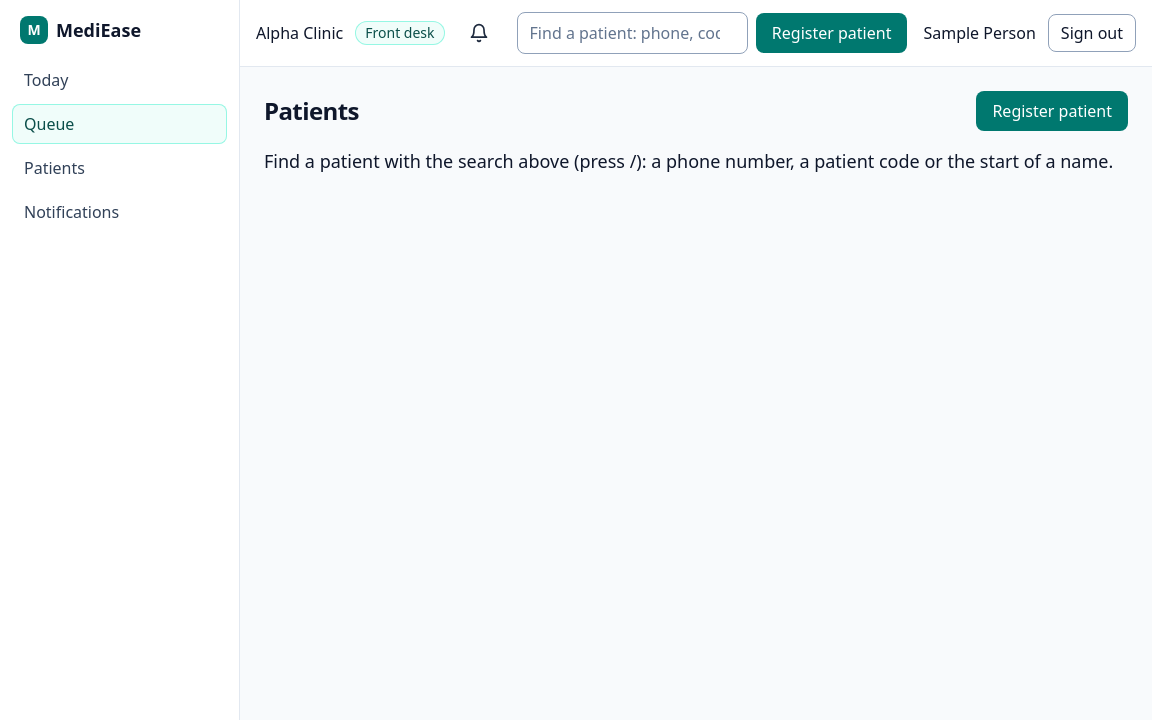
register patient drawer › FR-PAT-02, AC1: a phone already in the clinic lists its patients; Use this patient opens one
The image size is (1152, 720).
Step 1. Click the button "Register patient" next to "Sample Person" → point(832, 33), box [756,13,907,53]
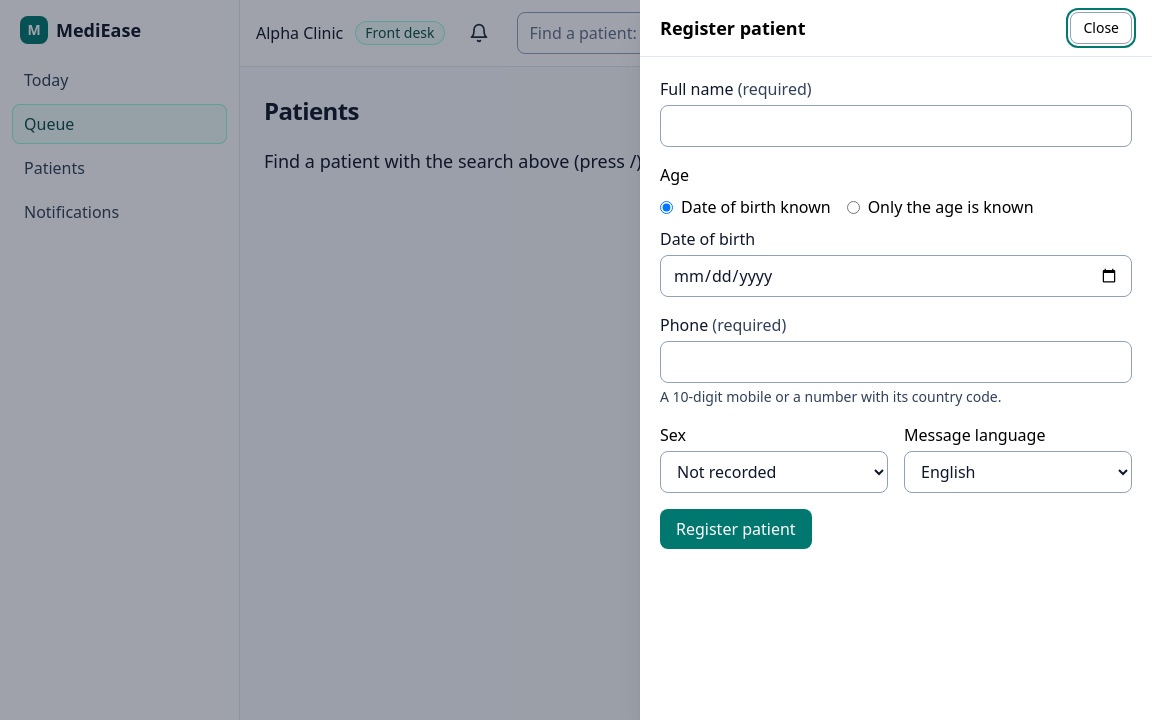
Step 2. Type "Sample Person" into the field labelled "Full name (required)" → point(896, 126), box [660,105,1132,147]
Step 3. Type "1990-05-17" into the date field labelled "Date of birth" → point(896, 276), box [660,255,1132,297]
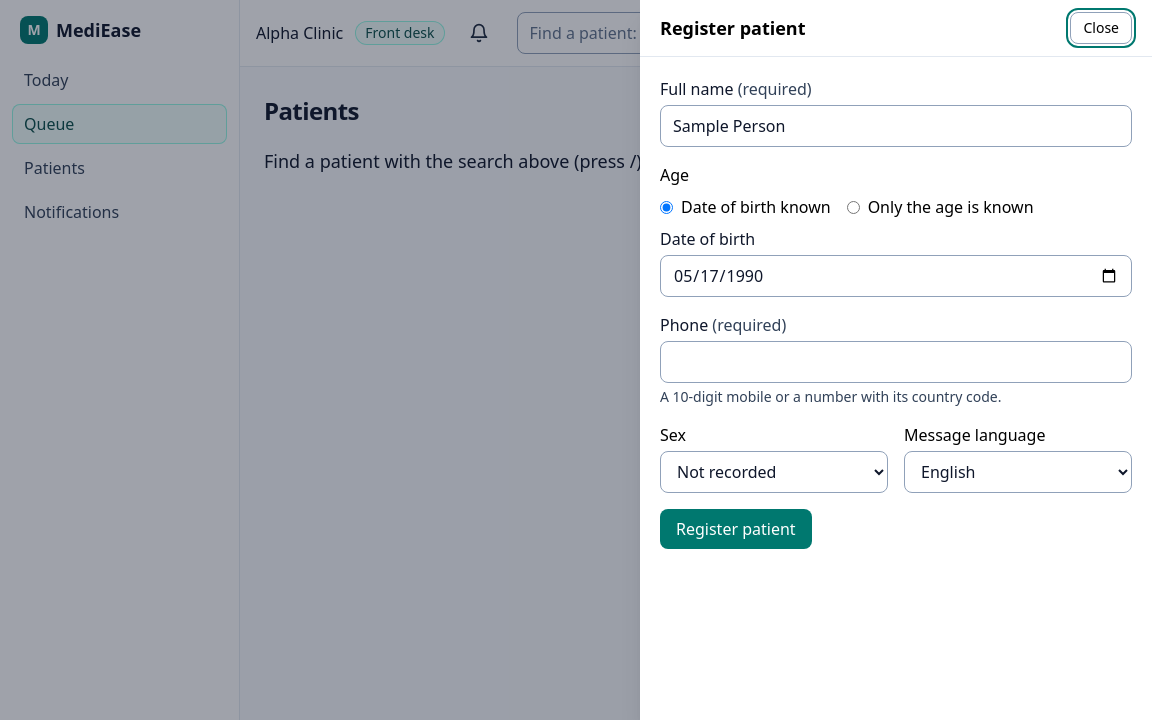
Step 4. Type "090000 00101" into the field labelled "Phone (required)" → point(896, 362), box [660,341,1132,383]
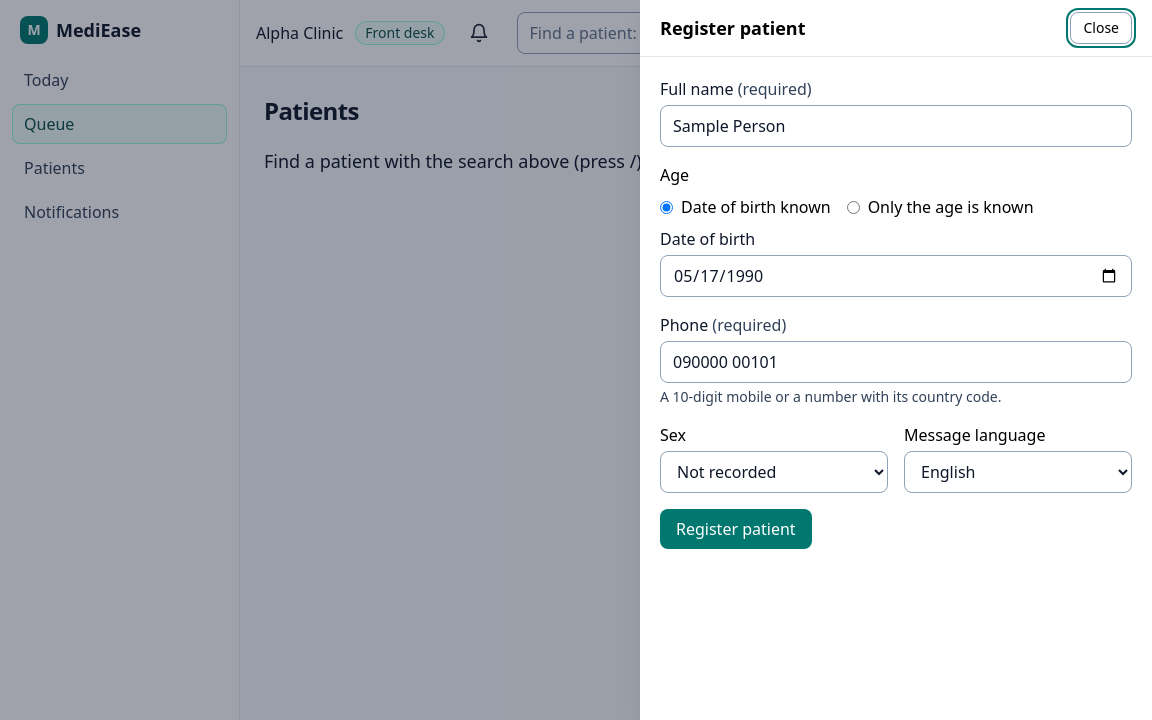
Step 5. Select "Female" in the dropdown labelled "Sex" → point(774, 472), box [660,451,888,493]
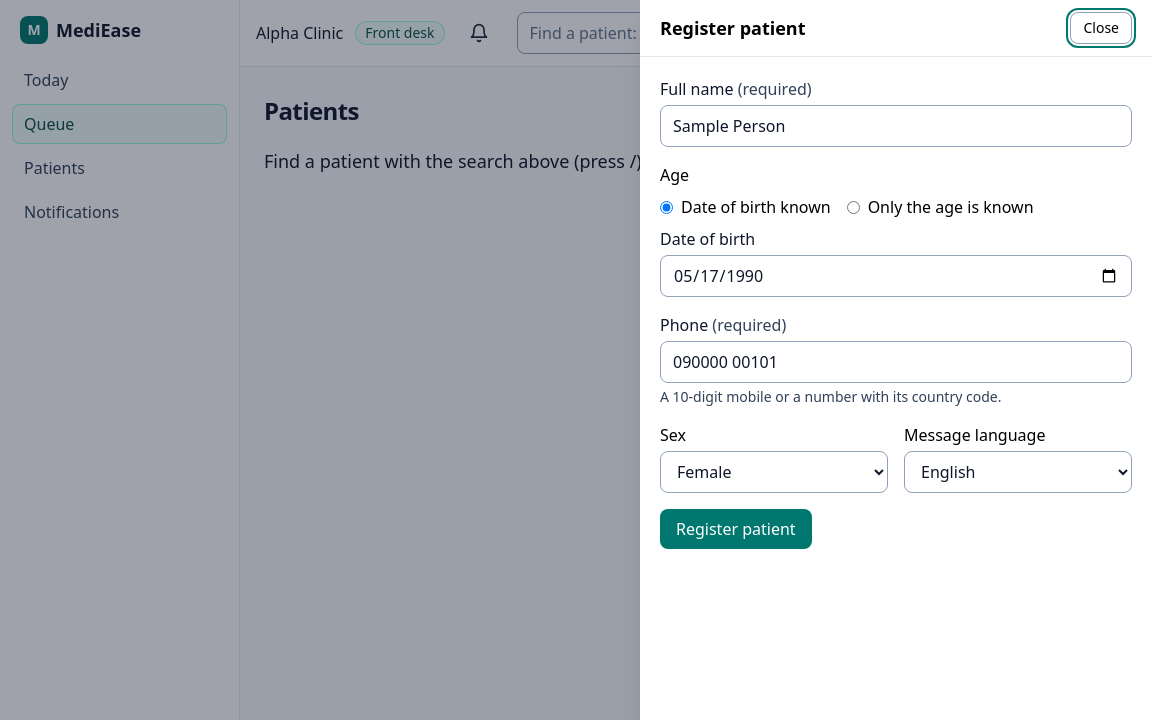
Step 6. Click the button "Register patient" → point(736, 529), box [660,509,812,549]
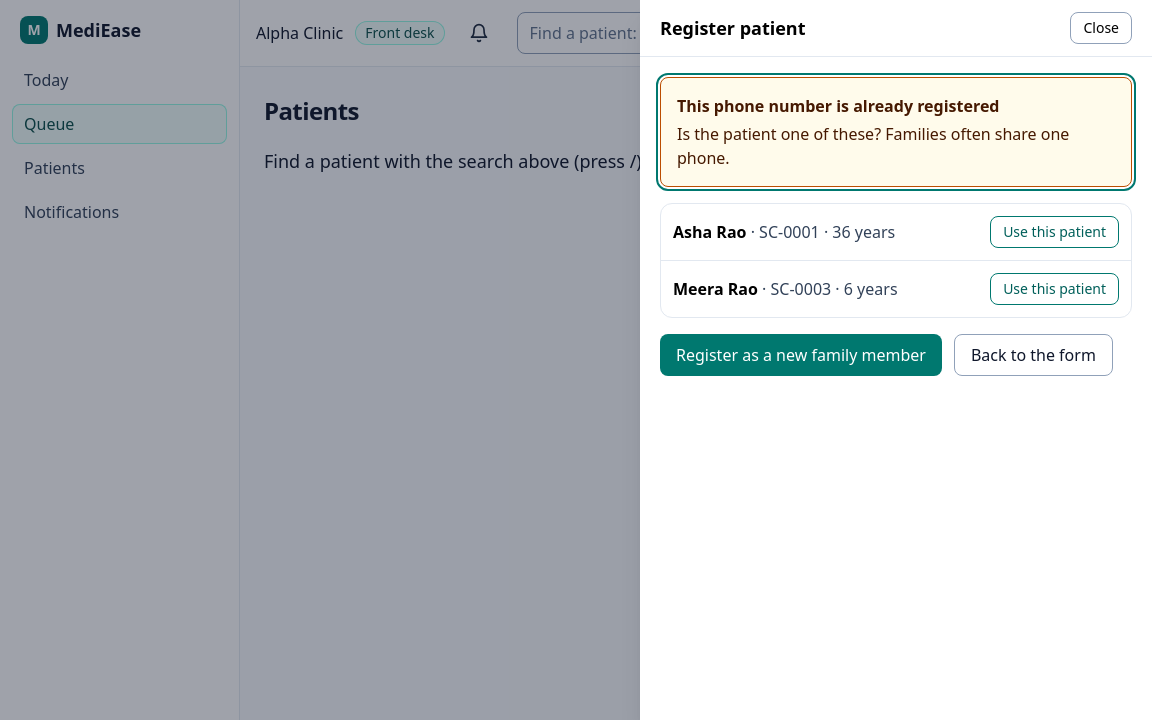
Now the heading "This phone number is already registered" is shown, box [677,95,1000,117]
Now the text "Meera Rao" is shown, box [673,278,758,300]
Step 7. Click the button with aria-label "Use this patient: Asha Rao, SC-0001" → point(1055, 232), box [990,216,1119,248]
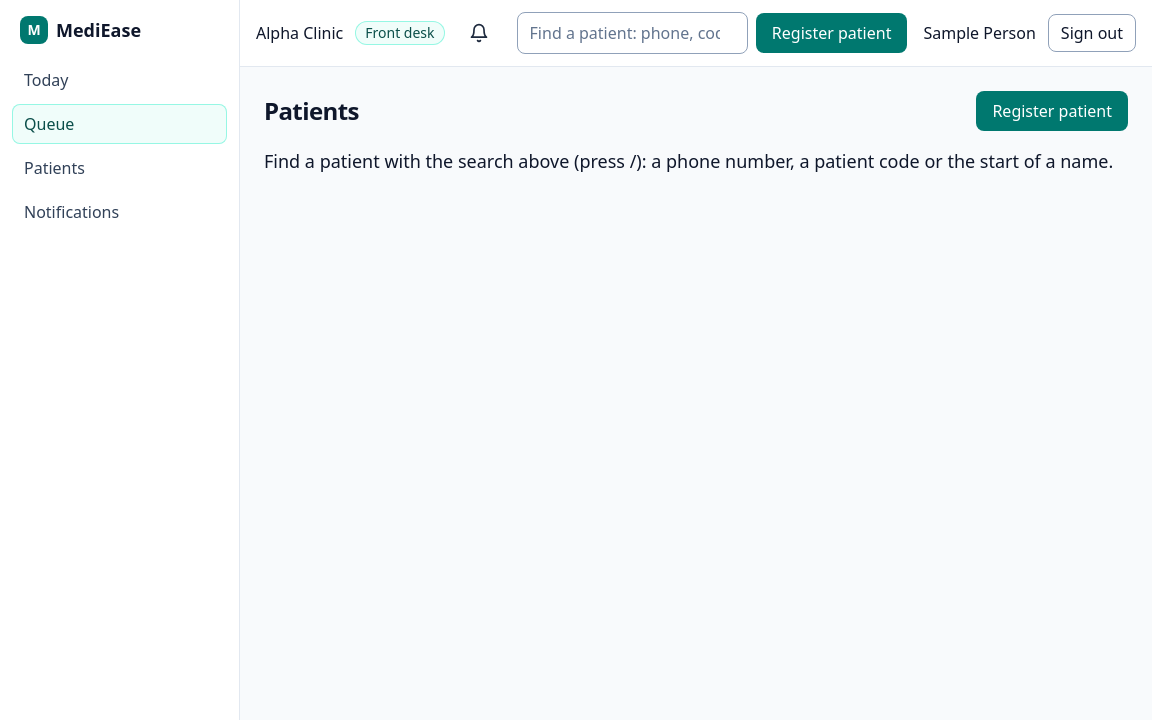
Now the dialog is gone
